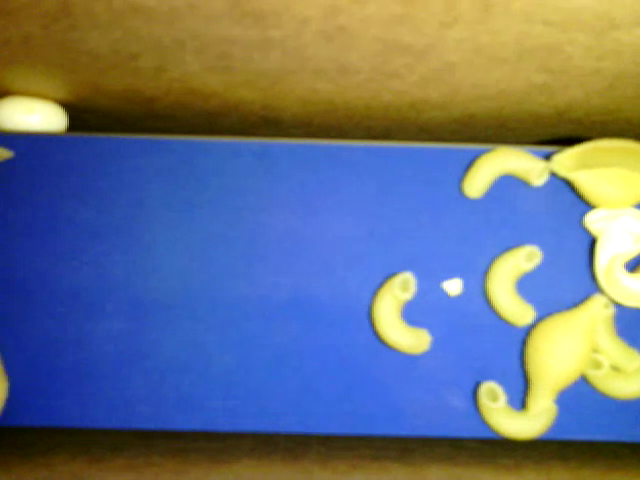elbow: (369, 270, 432, 356), (474, 379, 558, 441), (486, 242, 544, 328), (459, 145, 549, 199), (582, 354, 639, 401), (593, 320, 639, 370)
shell: (525, 292, 614, 406), (546, 136, 639, 208)
tortellini: (581, 205, 639, 309)
